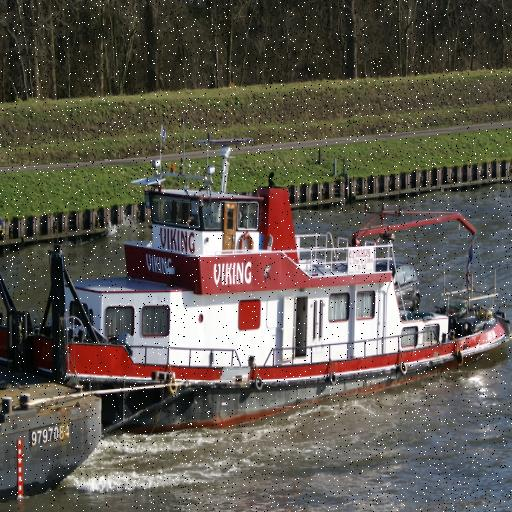tugboat: (1, 131, 512, 444)
